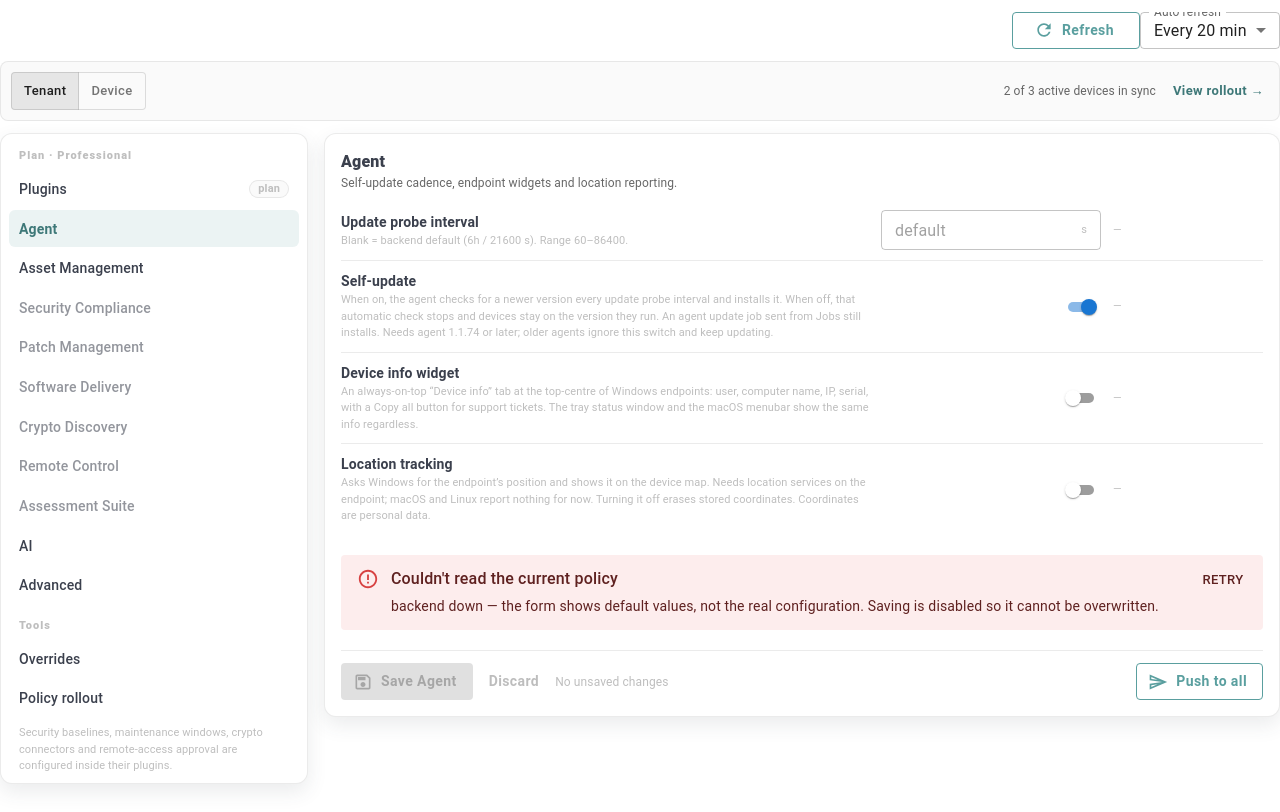
Test case: saving the tenant policy › refuses to save when the policy could not be read
Expected: the text "Couldn't read the current policy" is shown, [391,569,618,588]
Type "7200" into the number field named "Update probe interval" at (979, 230), box [881,210,1077,250]
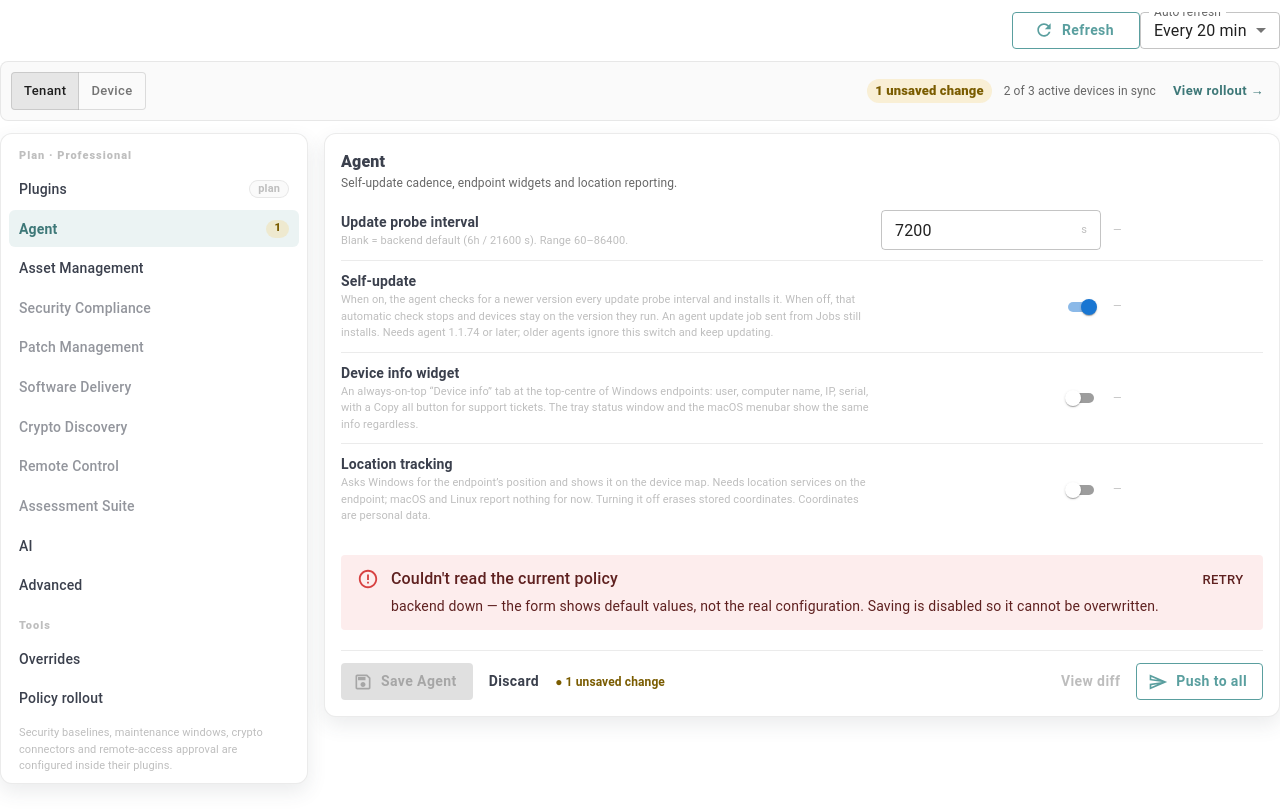
Expected: the button "Save Agent" is disabled, [341,663,473,700]
Expected: the text "1 unsaved change" is shown, [867,81,992,101]
